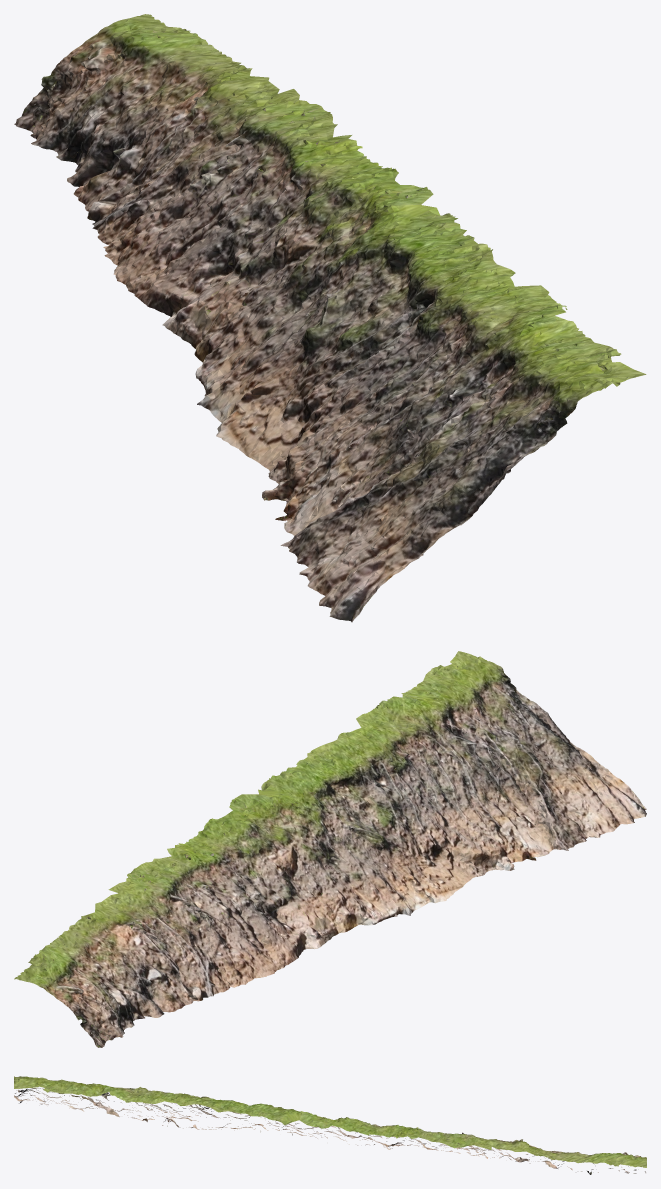
3 renders of one model, top to bottom at view 1: azimuth 30°, elevation 25°; view 2: azimuth 150°, elevation 25°; view 3: azimuth 270°, elevation 25°, orthographic. The views are drawn at different scales.
Bounding box in the file's own units: 6.04 × 2.49 × 15.26.
Materials: 1 (1 with a texture image).
